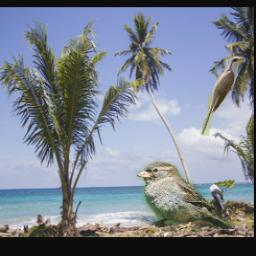Cuckoo: (201, 57, 246, 137)
Sparrow: (137, 162, 236, 230)
